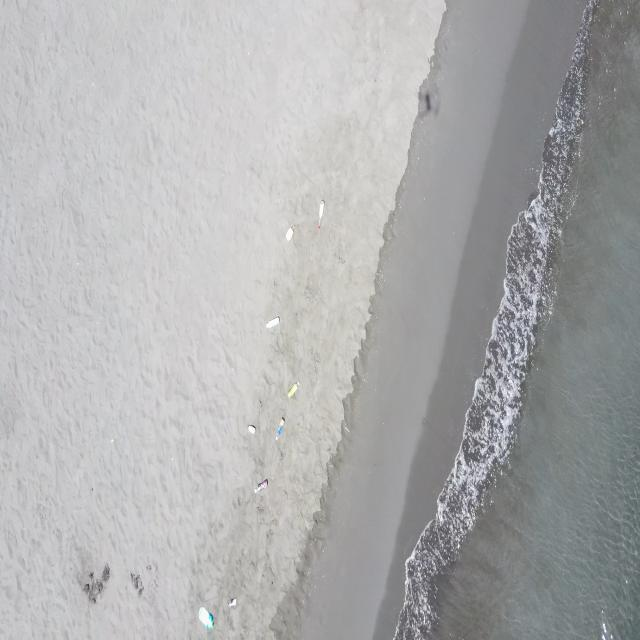Garbage: (199, 607, 212, 627), (316, 200, 324, 227), (253, 479, 267, 492), (287, 382, 298, 397), (264, 316, 279, 327), (276, 416, 283, 439), (284, 226, 292, 240), (228, 597, 236, 607), (247, 424, 255, 432)
